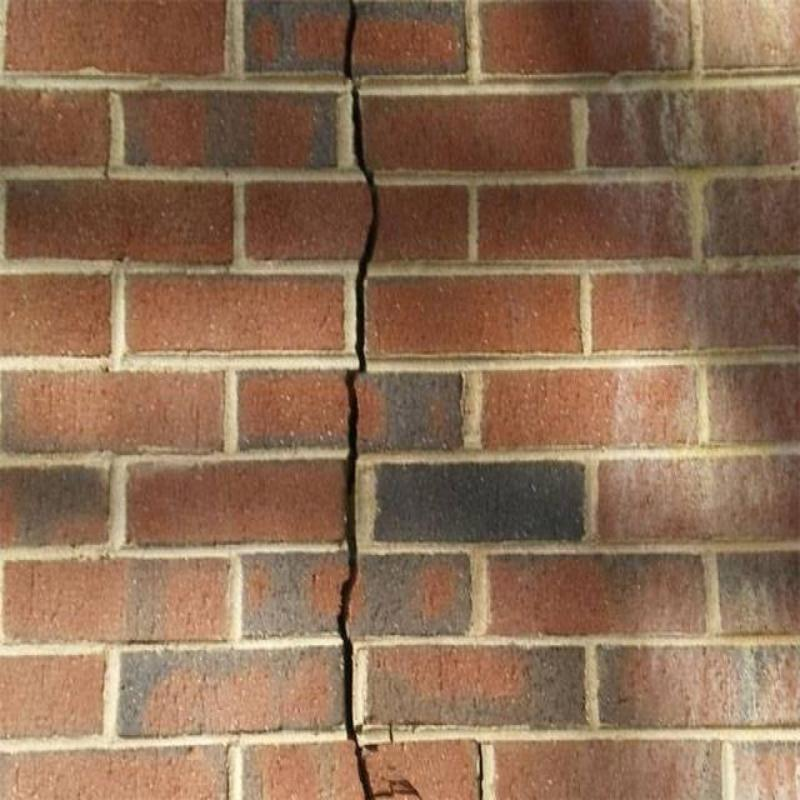pothole: (338, 0, 380, 799)
